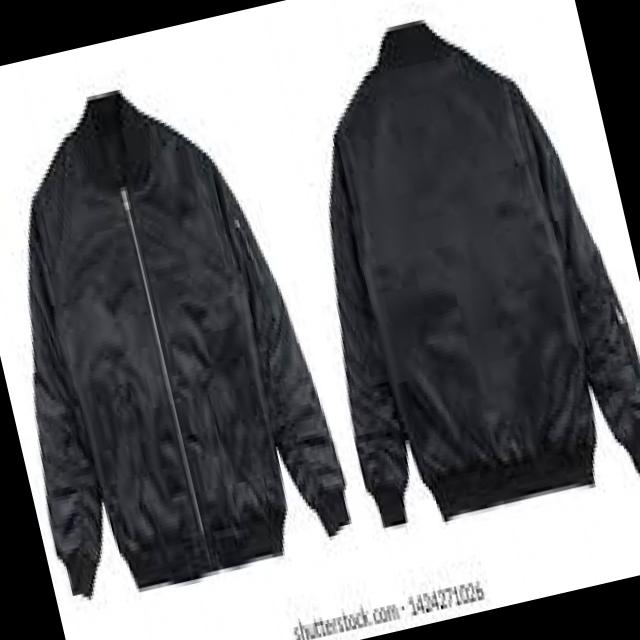Jacket: (278, 0, 640, 552), (0, 71, 342, 602)
